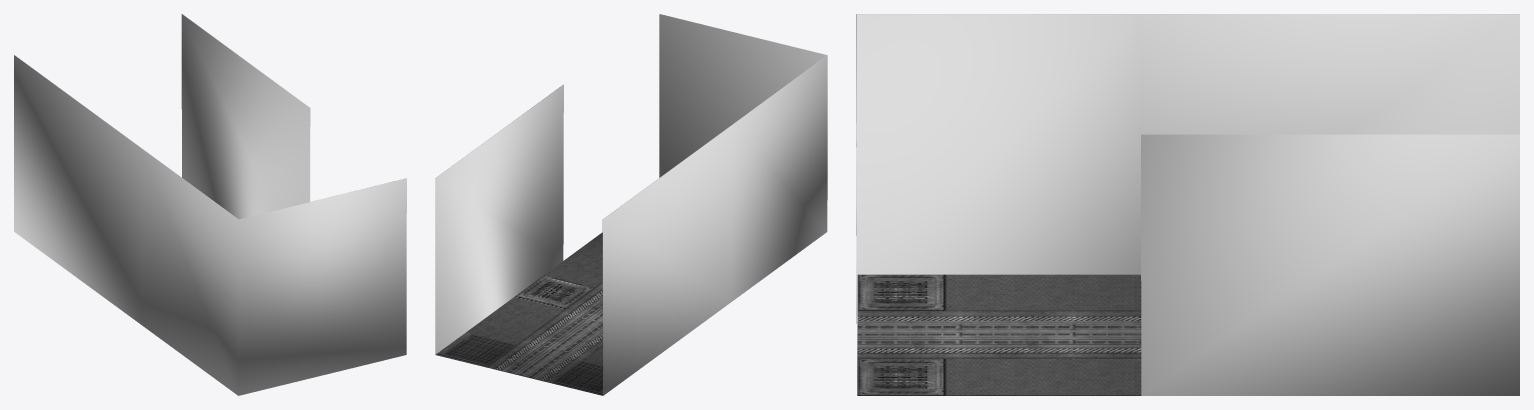
The model's file is corridor_l_shape.fbx.
3 views of the same model, side by side, from view 1: azimuth 30°, elevation 25°; view 2: azimuth 150°, elevation 25°; view 3: azimuth 270°, elevation 25° (orthographic). The views are drawn at different scales.
Parts seen in each view (by area): view 1: corridor_l_shape; view 2: corridor_l_shape; view 3: corridor_l_shape.
Part boxes in pixels (bbox=[...]): corridor_l_shape: bbox=[14, 14, 406, 395]; corridor_l_shape: bbox=[435, 14, 827, 395]; corridor_l_shape: bbox=[856, 14, 1519, 395].
Size of the model in its own units: 362 by 364 by 838.
